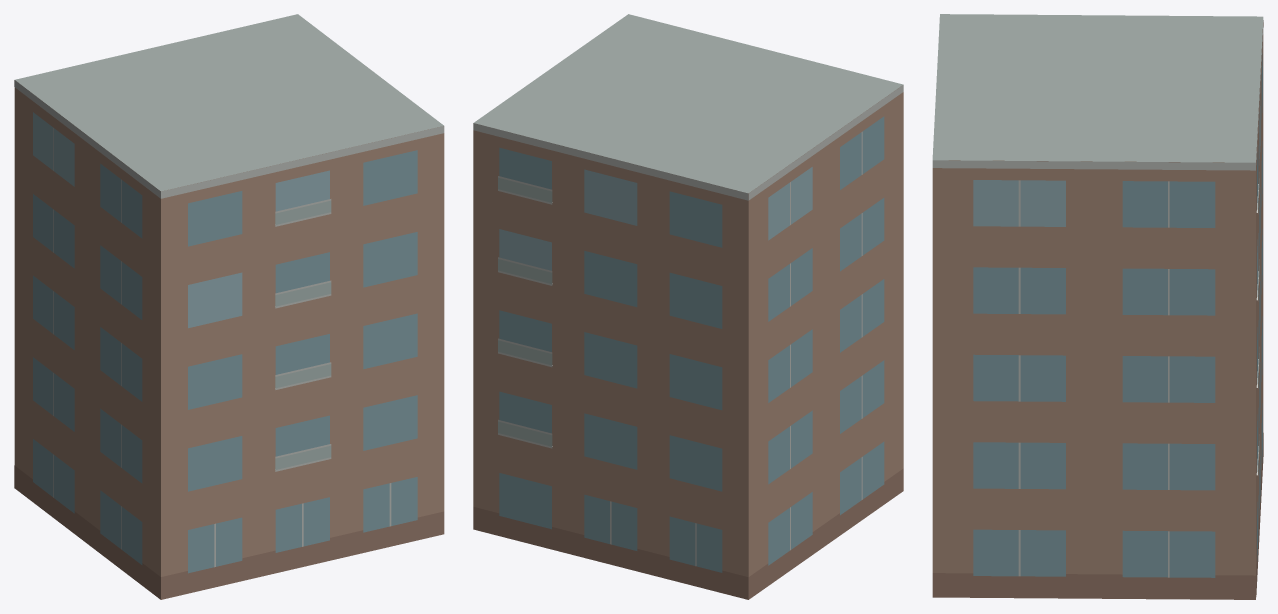
File: survey-upis-32859121.glb
3 renders of one model, left to right at view 1: azimuth 30°, elevation 25°; view 2: azimuth 150°, elevation 25°; view 3: azimuth 270°, elevation 25°, orthographic. The views are drawn at different scales.
Parts seen in each view (by area): view 1: survey-upis-32859121.tmp; view 2: survey-upis-32859121.tmp; view 3: survey-upis-32859121.tmp.
Part boxes in pixels (x1,y1,x2,y2): survey-upis-32859121.tmp: (14, 14, 444, 599); survey-upis-32859121.tmp: (473, 14, 903, 599); survey-upis-32859121.tmp: (932, 14, 1263, 599).
Size of the model in its own units: 9.93 by 13.6 by 9.34.
